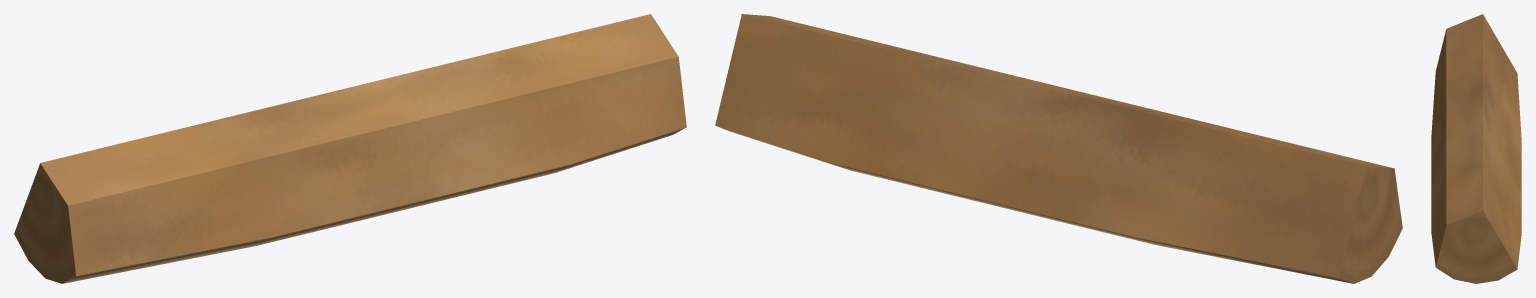
File: Timber_Cut_1.fbx
3 renders of one model, left to right at view 1: azimuth 30°, elevation 25°; view 2: azimuth 150°, elevation 25°; view 3: azimuth 270°, elevation 25°, orthographic. The views are drawn at different scales.
Parts seen in each view (by area): view 1: Cylinder.084; view 2: Cylinder.084; view 3: Cylinder.084.
Part boxes in pixels (x1=…): Cylinder.084: x1=14, y1=14, x2=686, y2=283; Cylinder.084: x1=715, y1=14, x2=1402, y2=283; Cylinder.084: x1=1431, y1=14, x2=1521, y2=283.
Size of the model in its own units: 84.28 by 15.83 by 16.37.
